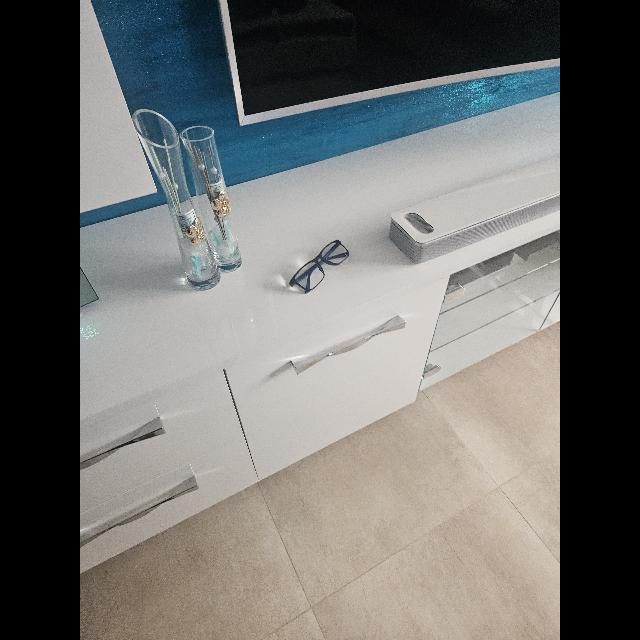glasses: (289, 240, 349, 292)
